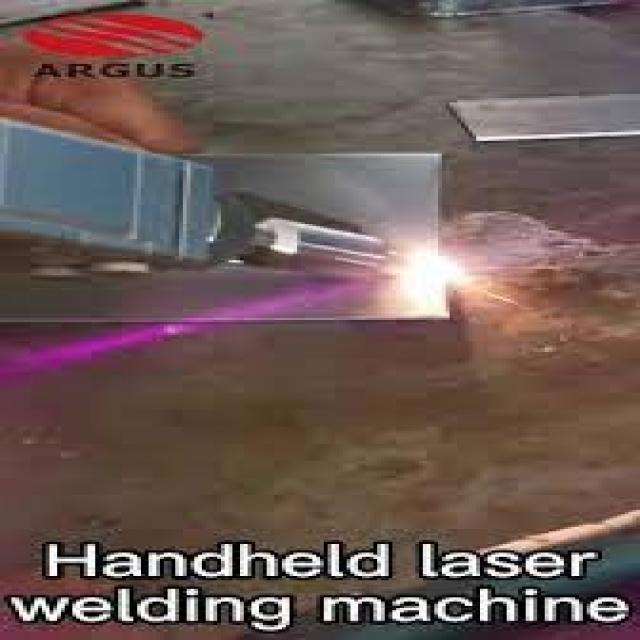fire: (366, 239, 473, 318)
